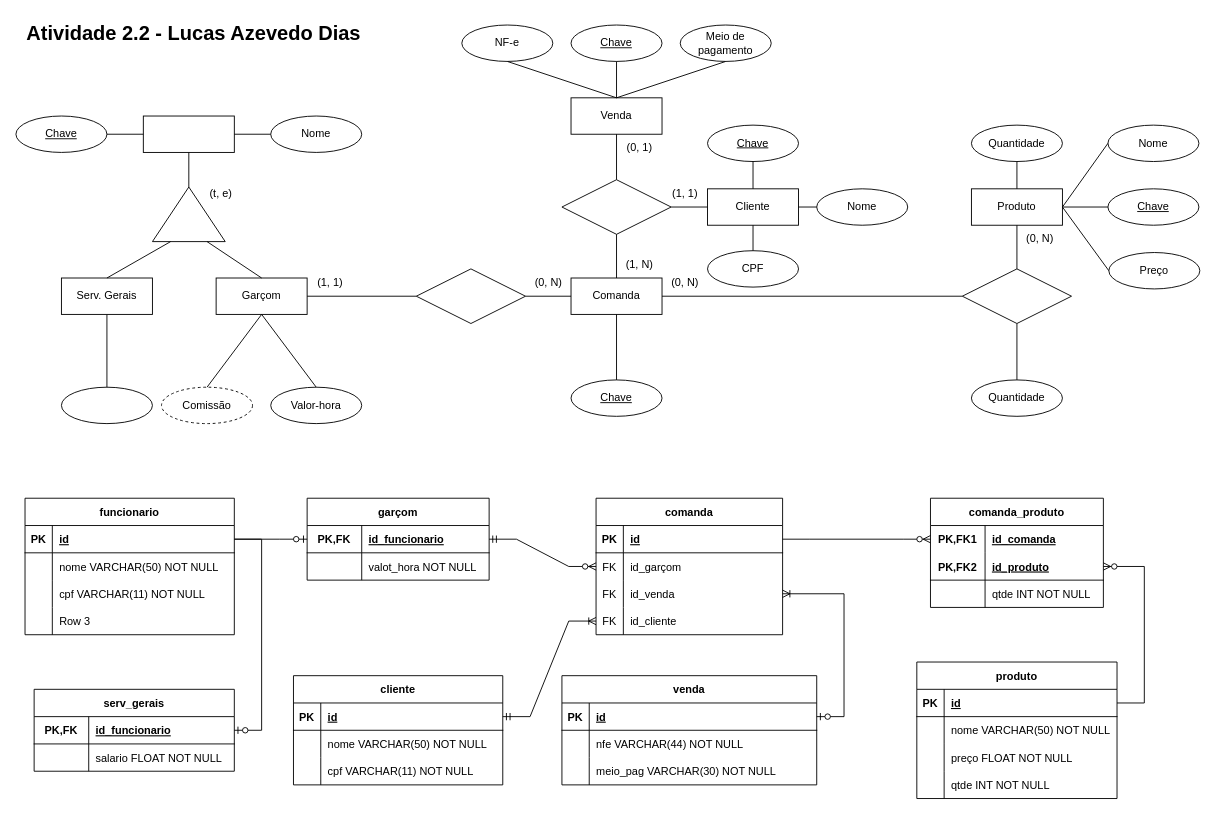
The diagram is 1216 pixels wide and 814 high, and some of its shapes have lost their labels. Here are the shapes that lost their labels. From the top down, the centre of each, then its label:
(188,133): Funcionário
(616,206): compra
(470,296): atendeu
(1016,296): registra
(106,405): Salário base
